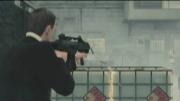gun: (49, 33, 90, 70)
